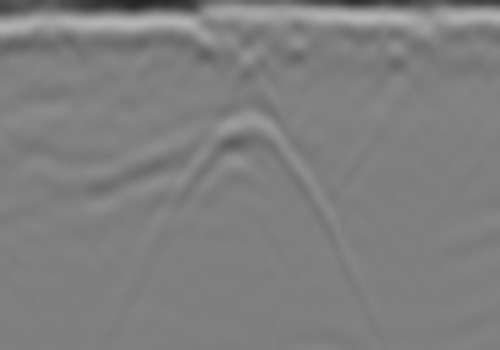hyperbola: (131, 108, 372, 341)
